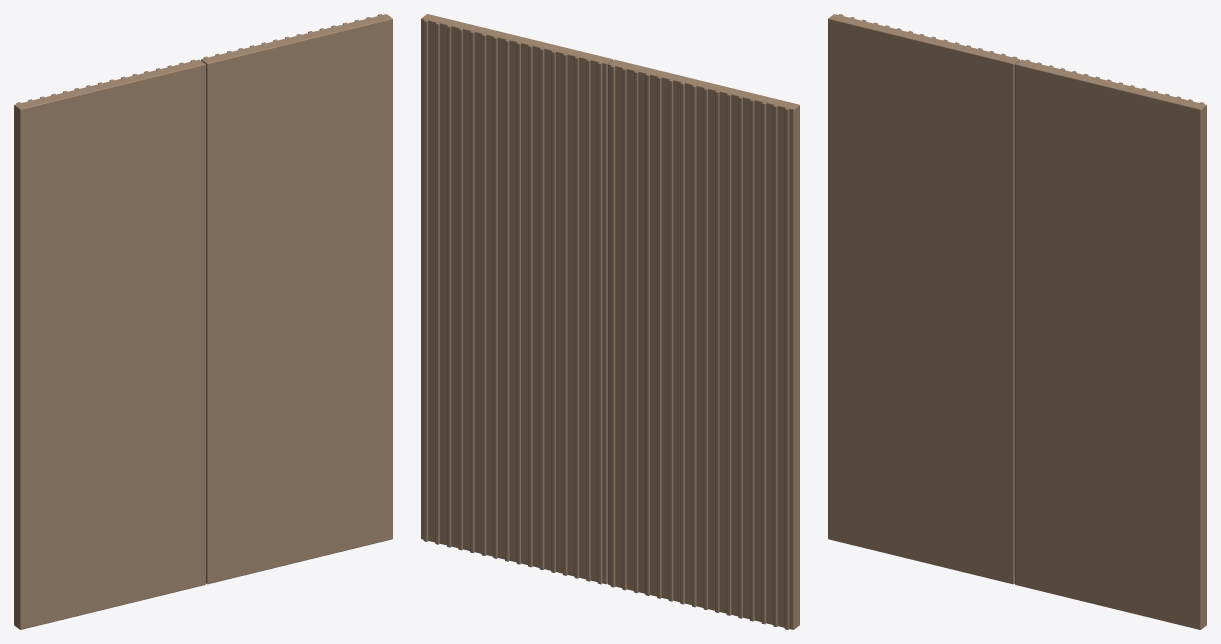
Rendered from DOOR_DOUBLE_600x800.glb.
The picture shows the model from 3 angles, left to right: view 1: azimuth 30°, elevation 25°; view 2: azimuth 150°, elevation 25°; view 3: azimuth 330°, elevation 25°; orthographic projection.
Visible parts, largest first — view 1: front_panel_01, front_panel_02; view 2: front_panel_01, front_panel_02, front_panel_01_rib_011, front_panel_01_rib_016, front_panel_02_rib_001, front_panel_01_rib_003, front_panel_01_rib_006, front_panel_02_rib_003, front_panel_02_rib_016, front_panel_01_rib_001, front_panel_02_rib_006, front_panel_02_rib_011 (+22 smaller); view 3: front_panel_02, front_panel_01.
Boxes of the visible parts, x1,y1,x2,y2 form: front_panel_01: (14, 59, 205, 629); front_panel_02: (201, 14, 392, 584); front_panel_01: (608, 59, 799, 629); front_panel_02: (421, 14, 612, 584); front_panel_01_rib_011: (668, 79, 673, 601); front_panel_01_rib_016: (610, 65, 615, 587); front_panel_02_rib_001: (597, 62, 602, 584); front_panel_01_rib_003: (761, 102, 766, 624); front_panel_01_rib_006: (726, 93, 731, 615); front_panel_02_rib_003: (574, 56, 579, 578); front_panel_02_rib_016: (423, 19, 428, 541); front_panel_01_rib_001: (784, 108, 789, 629); front_panel_02_rib_006: (539, 48, 544, 569); front_panel_02_rib_011: (481, 34, 486, 555); front_panel_02: (1015, 59, 1206, 629); front_panel_01: (828, 14, 1019, 584).
Bounding box in the file's own units: 0.596 × 0.796 × 0.022.
